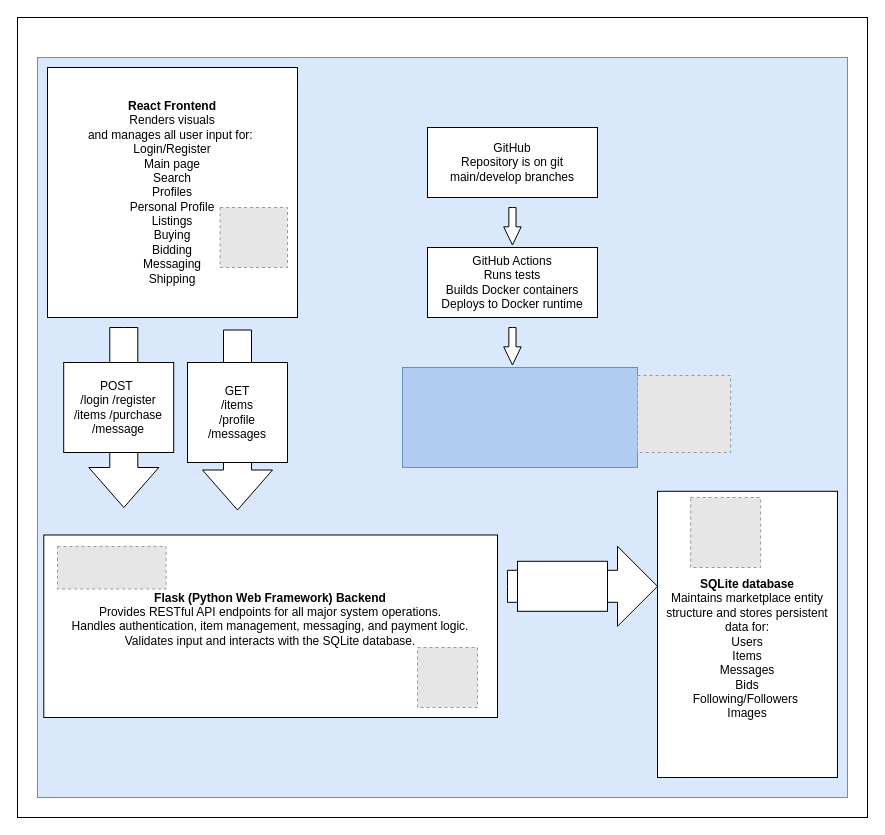
The diagram is 885 pixels wide and 835 high, and some of its shapes have lost their labels. Grey dashed boxes stand in for pictures. Here are the shapes that lost their labels. From the top down, the box of each, then its label:
(402, 366, 638, 468): Docker Containers Frontend runs React Backend runs Flask with SQLite database
(516, 560, 608, 611): SELECT INSERT UPDATE
